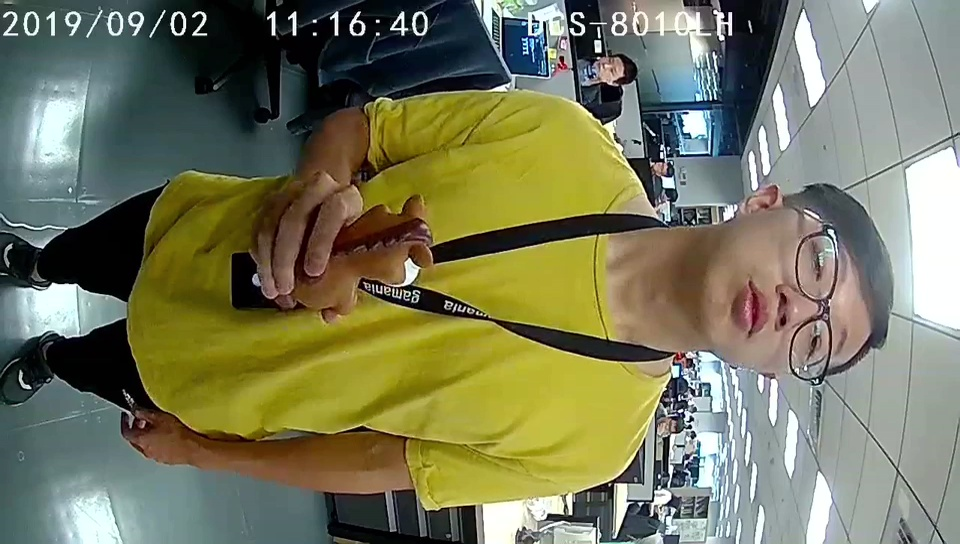horse: (337, 195, 434, 311)
